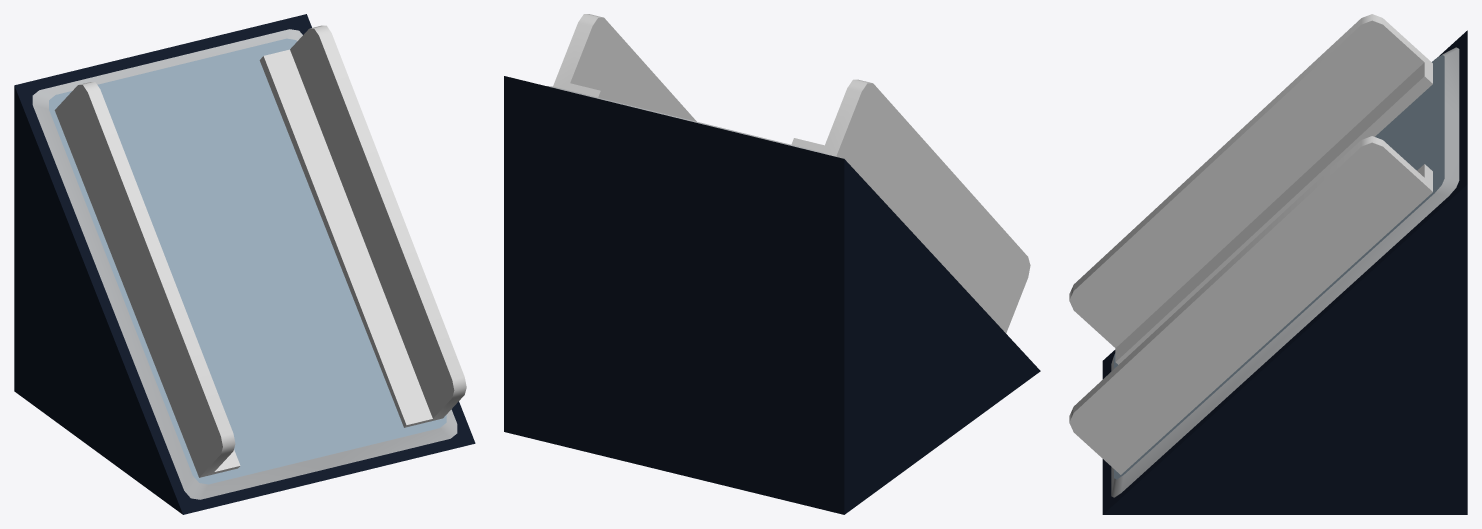
The model's file is SlopeTile.fbx.
3 renders of one model, left to right at view 1: azimuth 30°, elevation 25°; view 2: azimuth 150°, elevation 25°; view 3: azimuth 270°, elevation 25°, orthographic. The views are drawn at different scales.
Visible parts, largest first — view 1: SlopeTile; view 2: SlopeTile; view 3: SlopeTile.
Part boxes in pixels (bbox=[...]): SlopeTile: bbox=[14, 14, 475, 514]; SlopeTile: bbox=[504, 14, 1040, 514]; SlopeTile: bbox=[1069, 14, 1467, 514].
Size of the model in its own units: 100 by 109 by 109.
